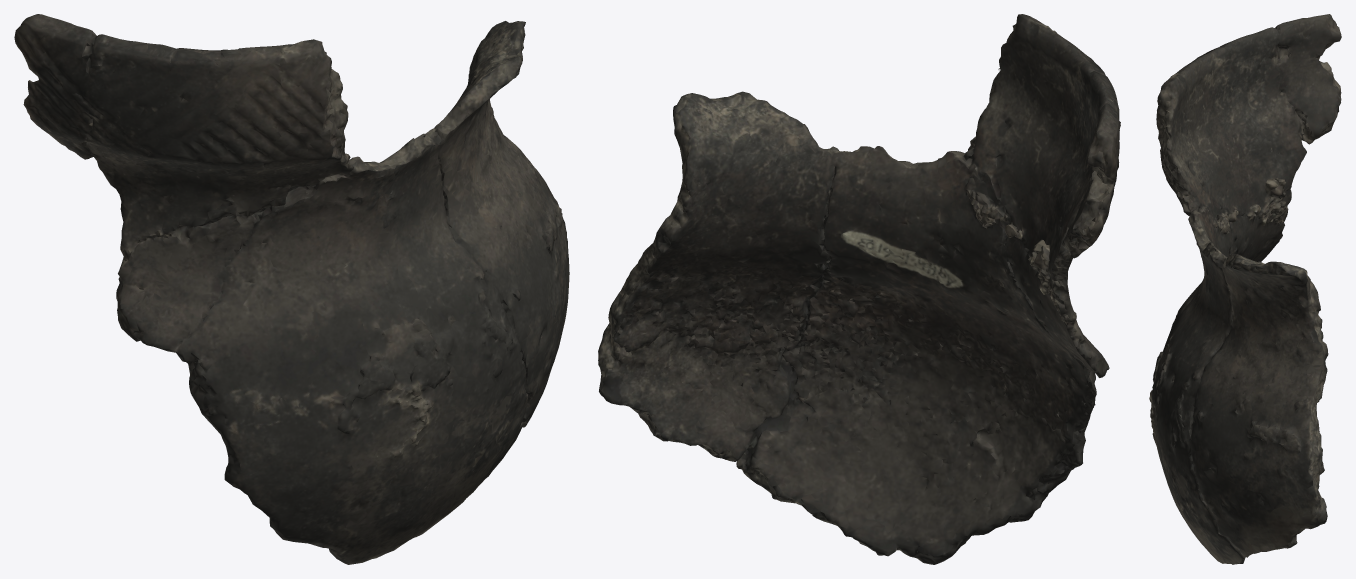
Rendered from pot-3d-scanned.glb.
The picture shows the model from 3 angles, left to right: view 1: azimuth 30°, elevation 25°; view 2: azimuth 150°, elevation 25°; view 3: azimuth 270°, elevation 25°; orthographic projection. The views are drawn at different scales.
Parts seen in each view (by area): view 1: Polygon_Reduction; view 2: Polygon_Reduction; view 3: Polygon_Reduction.
Boxes of the visible parts, x1=… form: Polygon_Reduction: x1=14, y1=14, x2=569, y2=564; Polygon_Reduction: x1=598, y1=14, x2=1120, y2=564; Polygon_Reduction: x1=1149, y1=14, x2=1341, y2=564.
Bounding box in the file's own units: 145 × 144 × 57.25.
Materials: 1 (1 with a texture image).
